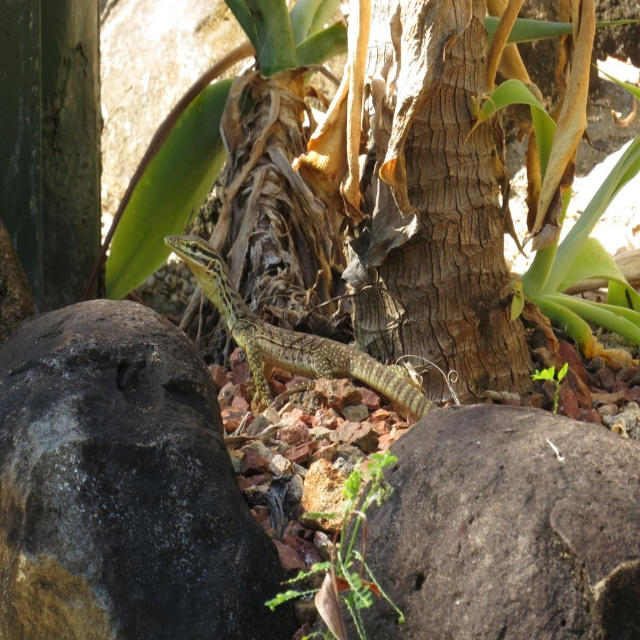Lizard: (150, 220, 451, 449)
